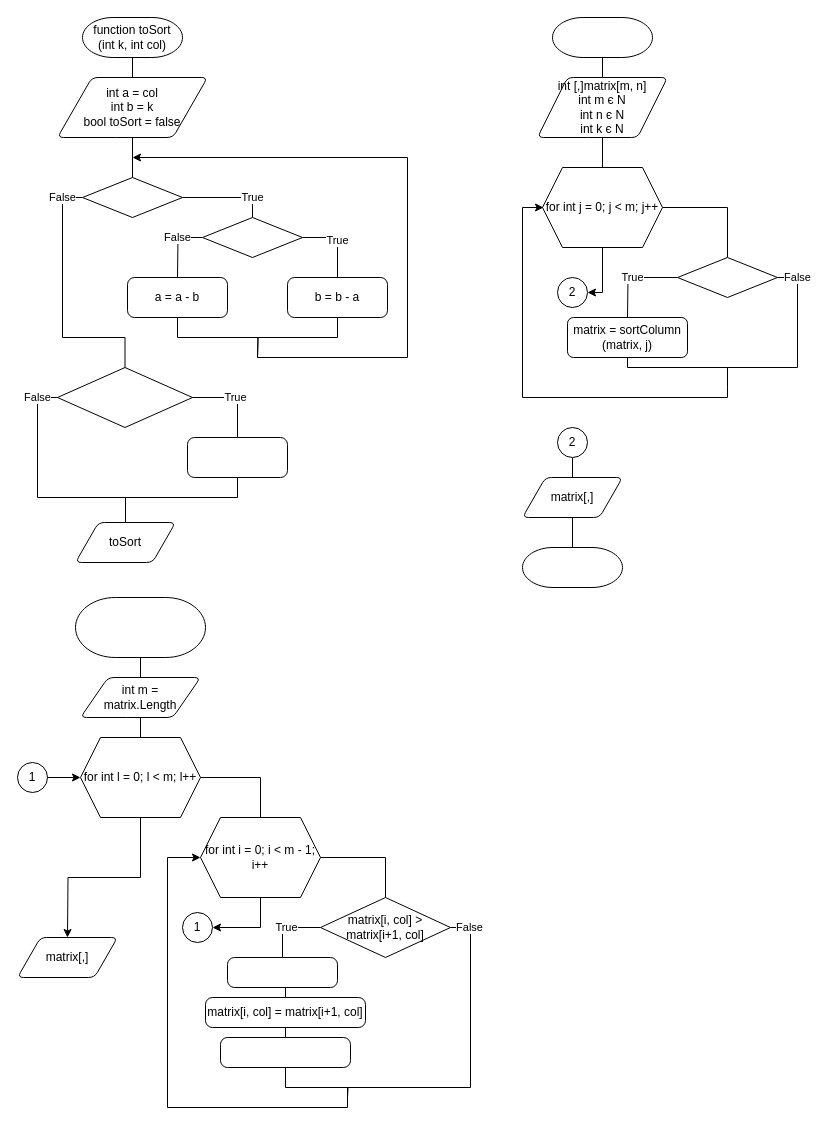
Image size: 828x1126. Some labels were removed from this diagram. Each missing label, with the box of its shape:
(col * k / a) % 2 = 1: (56, 366, 192, 428)
a != b: (82, 176, 182, 218)
b > a: (202, 216, 302, 258)
end: (522, 546, 622, 588)
function sortColumn (int[,] matrix, int col): (74, 596, 206, 658)
matrix[i+1, col] = temp: (220, 1036, 350, 1068)
start: (552, 16, 652, 58)
temp = matrix[i, col]: (226, 956, 338, 988)
toSort = true: (186, 436, 288, 478)
toSort(k, j+1): (676, 256, 778, 298)
